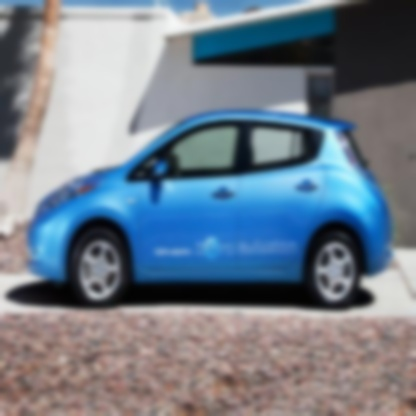Vehicle: (26, 108, 396, 313)
